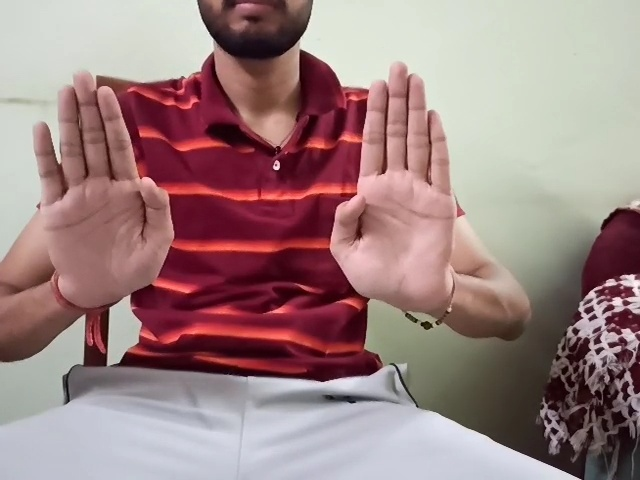B: (329, 61, 455, 329)
